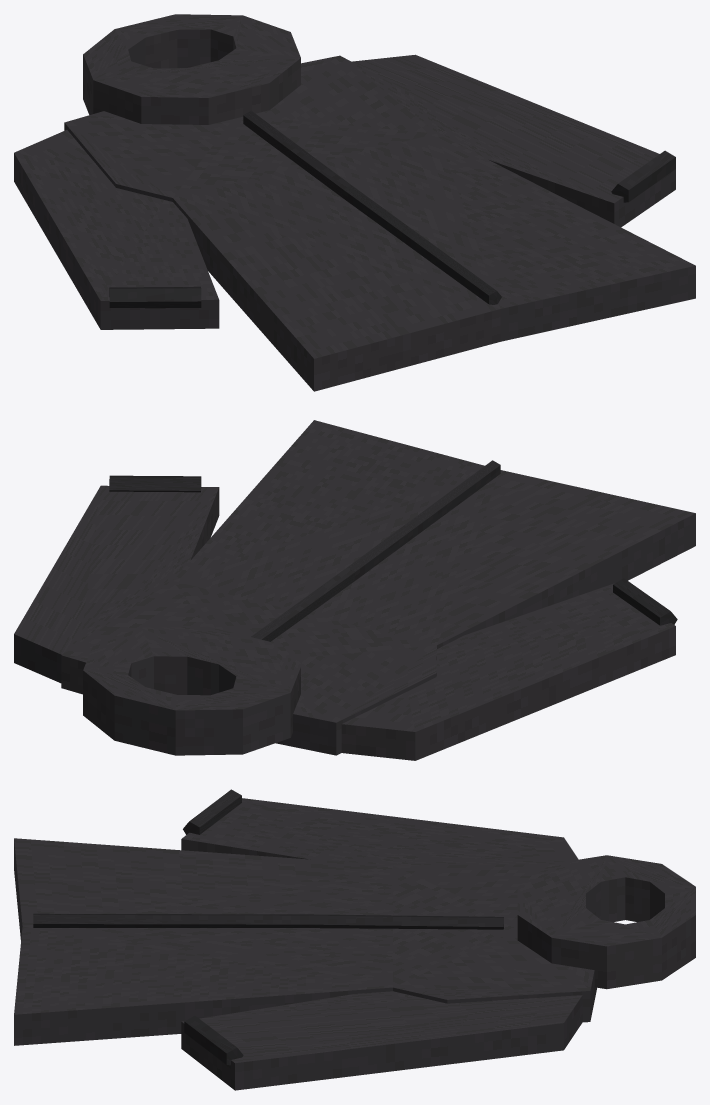
File: grim_reaper_robe.glb
The picture shows the model from 3 angles, top to bottom: view 1: azimuth 30°, elevation 25°; view 2: azimuth 150°, elevation 25°; view 3: azimuth 270°, elevation 25°; orthographic projection. The views are drawn at different scales.
Parts seen in each view (by area): view 1: block_garment body, block_sleeve (×2), block_folded fabric hood, block_cuff 0 (×2), block_front closure 1, block_front closure 0; view 2: block_garment body, block_sleeve (×2), block_folded fabric hood, block_front closure 1, block_cuff 0 (×2), block_front closure 0; view 3: block_garment body, block_sleeve (×2), block_folded fabric hood, block_front closure 1, block_front closure 0, block_cuff 0 (×2).
Part boxes in pixels (x1,y1,x2,y2): block_garment body: (64, 55, 695, 391); block_sleeve (×2): (14, 54, 675, 329); block_folded fabric hood: (83, 14, 300, 124); block_cuff 0 (×2): (109, 150, 675, 308); block_front closure 1: (343, 185, 501, 304); block_front closure 0: (243, 110, 350, 197); block_garment body: (61, 420, 695, 755); block_sleeve (×2): (14, 485, 675, 760); block_folded fabric hood: (83, 626, 300, 755); block_front closure 1: (347, 460, 500, 580); block_cuff 0 (×2): (109, 475, 677, 625); block_front closure 0: (251, 568, 354, 641); block_garment body: (14, 838, 596, 1045); block_sleeve (×2): (181, 798, 582, 1090); block_folded fabric hood: (517, 855, 695, 989); block_front closure 1: (33, 913, 309, 927); block_front closure 0: (309, 914, 503, 929); block_cuff 0 (×2): (183, 789, 243, 1065).
Bounding box in the file's own units: 0.3546 × 0.0353 × 0.3843.
Materials: 1 (1 with a texture image).
